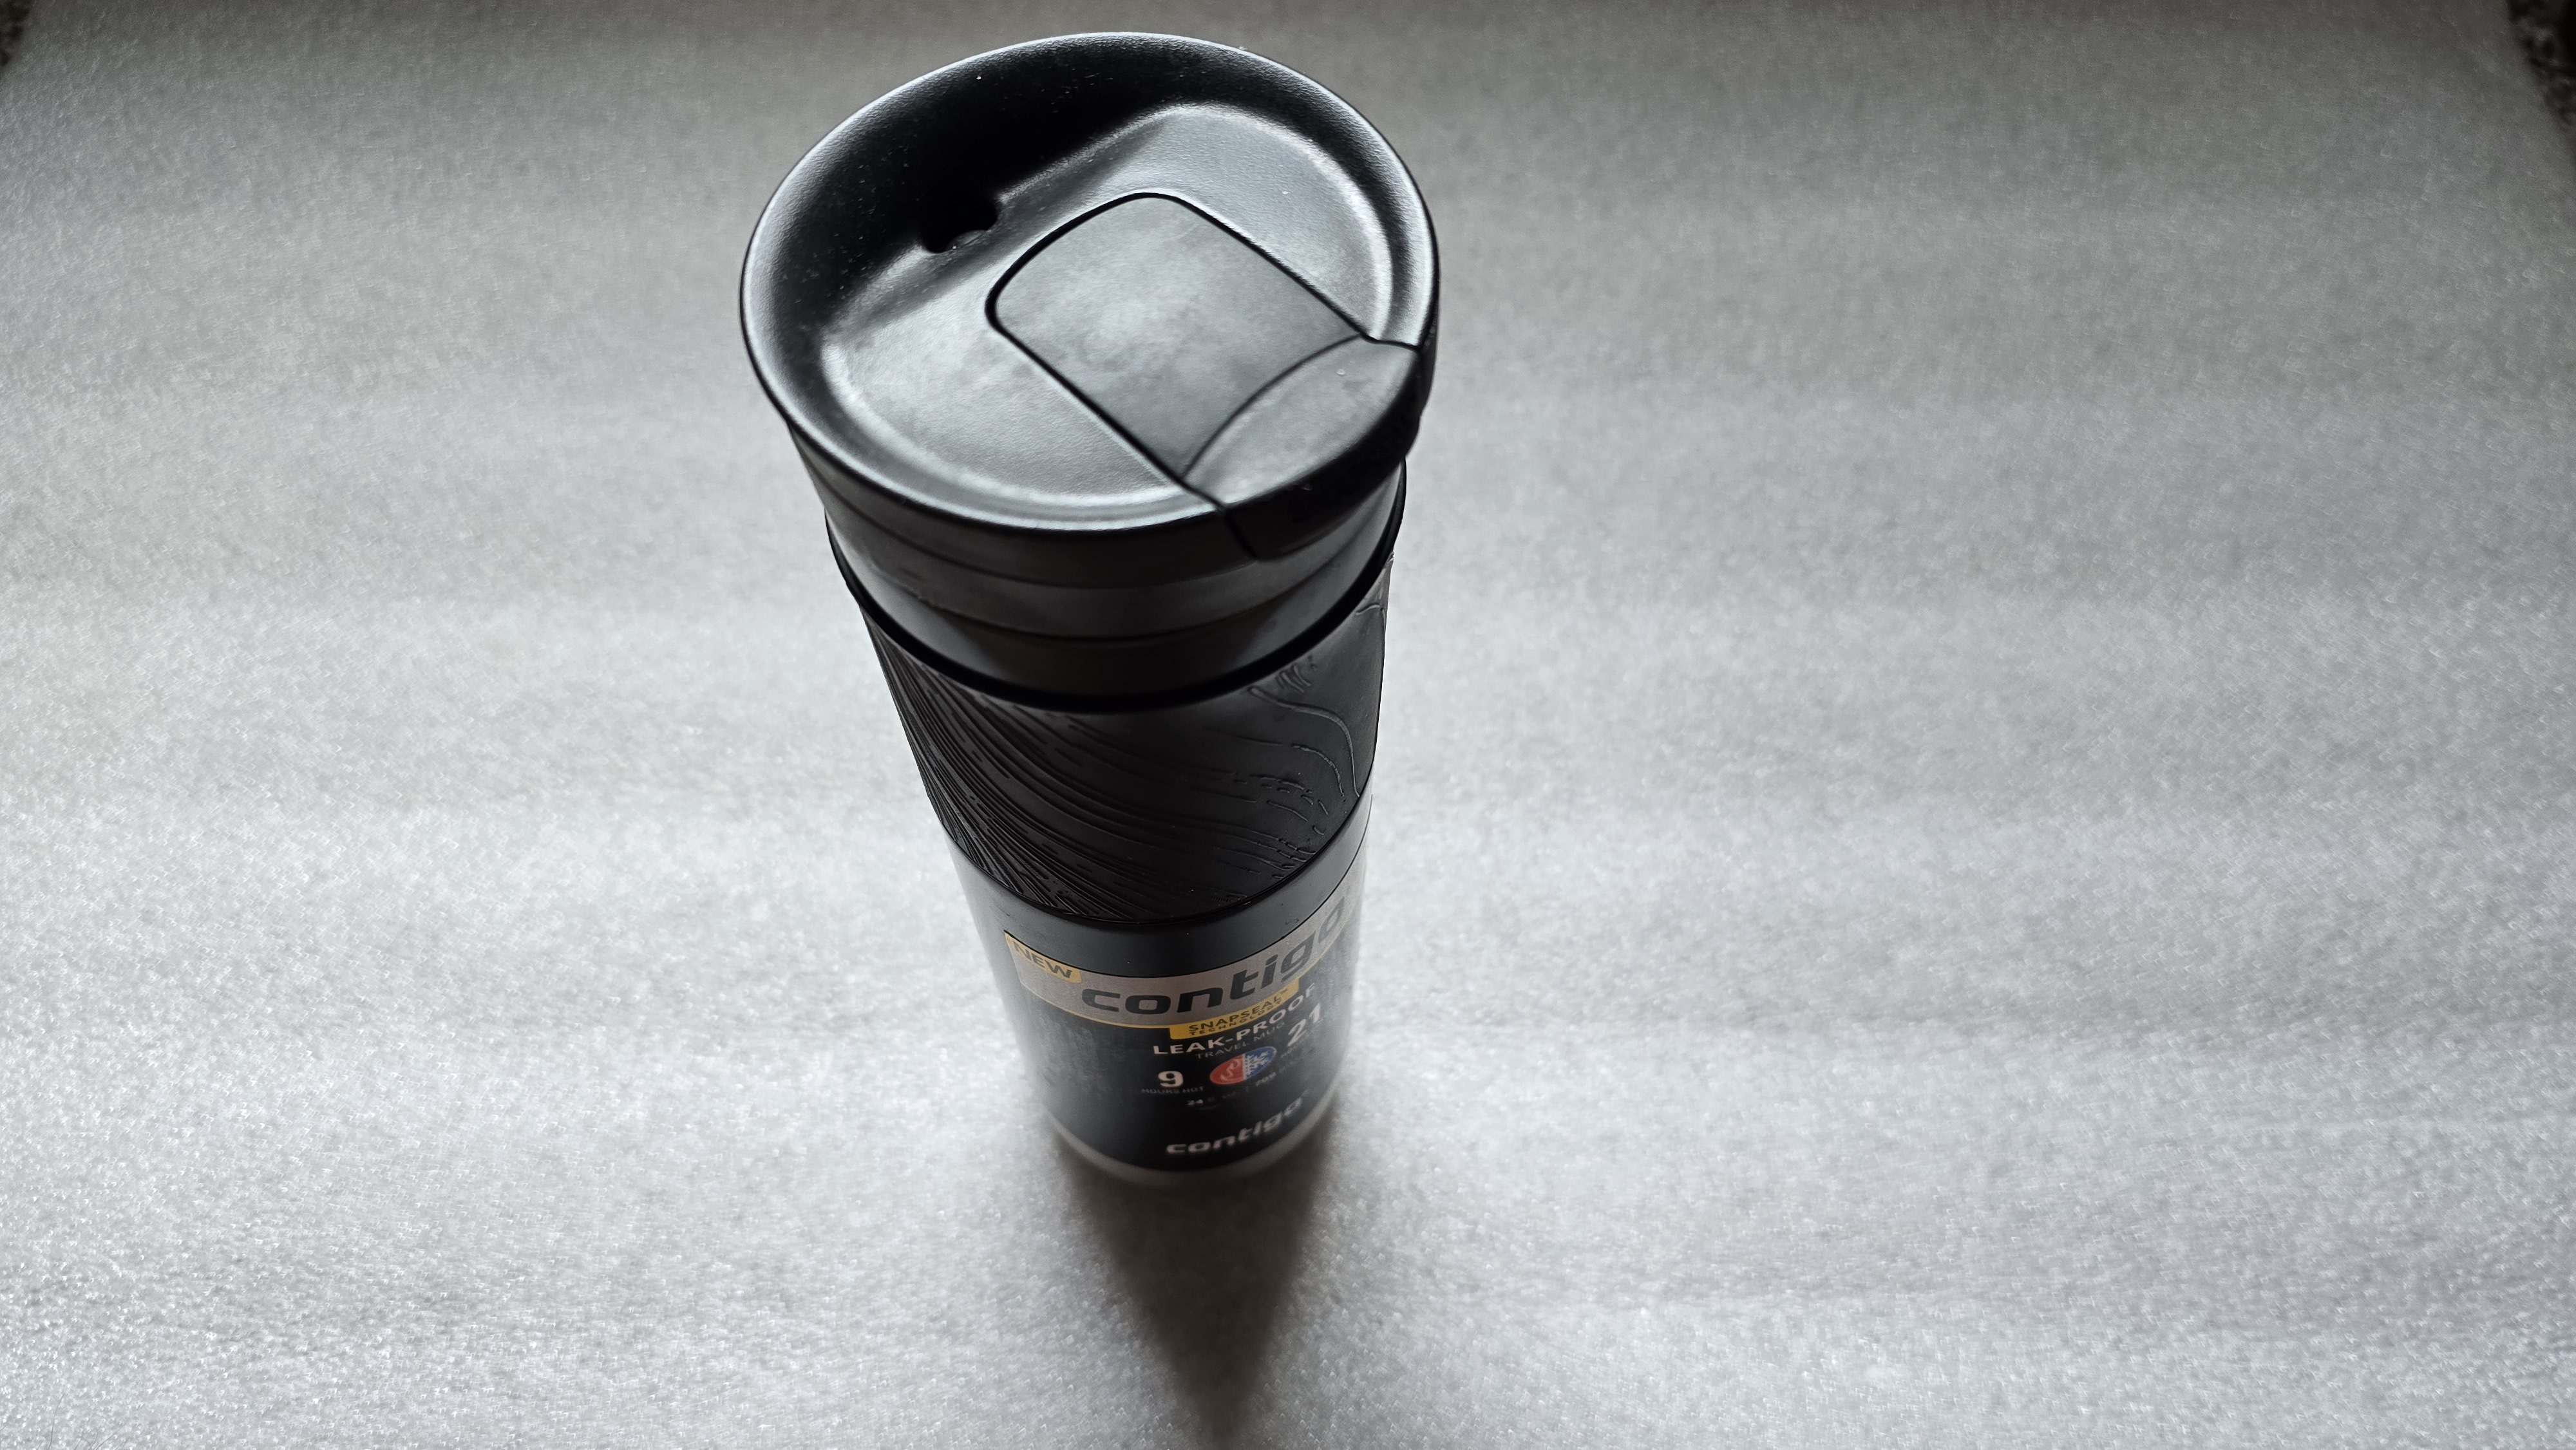bottle: (720, 18, 1557, 1217)
